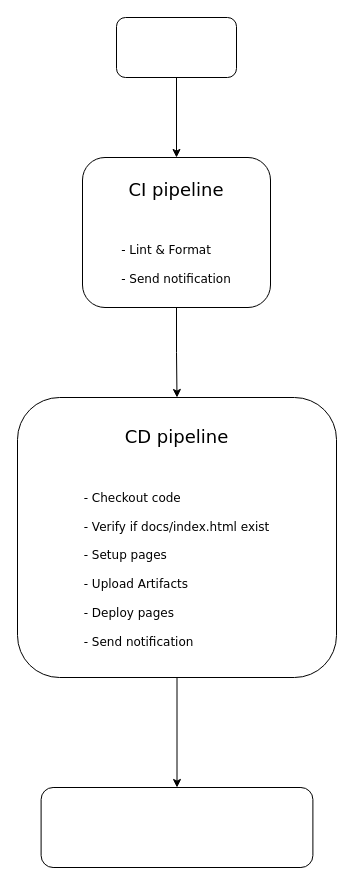
This 354x885 diagram has some shape labels left out. Here are the shapes that lost their labels. From the top down, the centre of each, then its label:
At point (176, 47): "push to main".
At point (176, 827): "Deployment Successful!".
